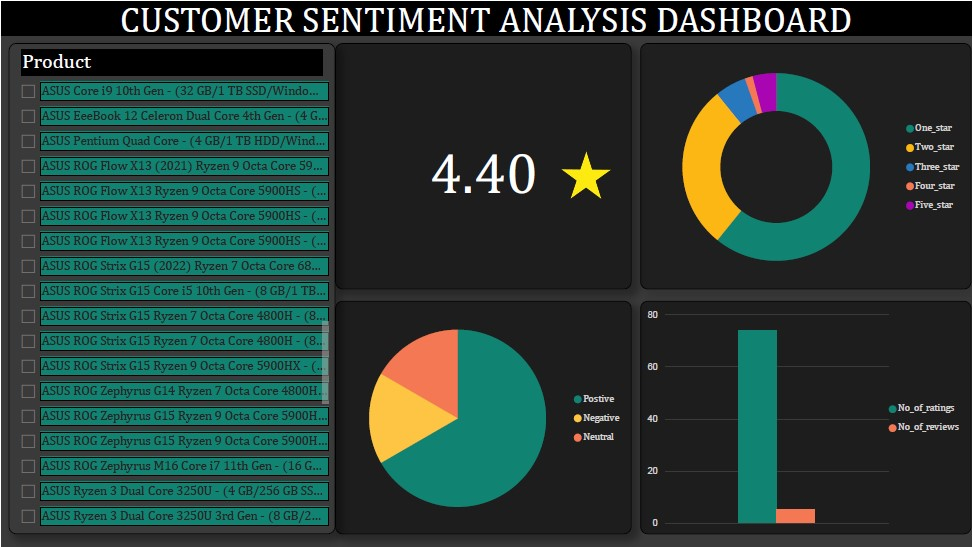

Layout of this report page (visuals, bound fields, positions):
{"tool":"powerbi","page":{"name":"Page 1","canvas":[1280,720],"ordinal":0},"visuals":[{"type":"shape","title":"CUSTOMER SENTIMENT ANALYSIS DASHBOARD","box":[0,0,1279.8,45.4],"z":0},{"type":"slicer","fields":{"Values":["Scraper1.Name"]},"box":[9.9,55.3,430.9,647.7],"z":1},{"type":"card","fields":{"Values":["Sum(Scraper1.Overall_rating)"]},"box":[440.8,55.3,391.2,324.6],"z":2},{"type":"donutChart","fields":{"Y":["Sum(Scraper1.One_star)","Sum(Scraper1.Two_star)","Sum(Scraper1.Three_star)","Sum(Scraper1.Four_star)","Sum(Scraper1.Five_star)"]},"box":[843.3,55.3,436.5,324.6],"z":3},{"type":"image","box":[722.8,189.9,96.4,80.8],"z":4},{"type":"pieChart","fields":{"Y":["Sum(Scraper1.Postive)","Sum(Scraper1.Negative)","Sum(Scraper1.Neutral)"]},"box":[440.8,395.4,391.2,307.6],"z":5},{"type":"lineClusteredColumnComboChart","fields":{"Y":["Sum(Scraper1.No_of_ratings)","Sum(Scraper1.No_of_reviews)"]},"box":[843,395,437,308],"z":6}]}

Visuals, with their boxes in screenshot pixels (x1, y1, x2, y2), scaled from the page's 1280x720 canvas onto the 973x547 screenshot:
"CUSTOMER SENTIMENT ANALYSIS DASHBOARD" shape: detection(0, 0, 972, 34)
slicer - Scraper1.Name: detection(8, 42, 335, 534)
card - Sum(Scraper1.Overall_rating): detection(335, 42, 632, 289)
donutChart - Sum(Scraper1.One_star) x Sum(Scraper1.Two_star): detection(641, 42, 972, 289)
image: detection(549, 144, 623, 206)
pieChart - Sum(Scraper1.Postive) x Sum(Scraper1.Negative): detection(335, 300, 632, 534)
lineClusteredColumnComboChart - Sum(Scraper1.No_of_ratings) x Sum(Scraper1.No_of_reviews): detection(641, 300, 972, 534)
